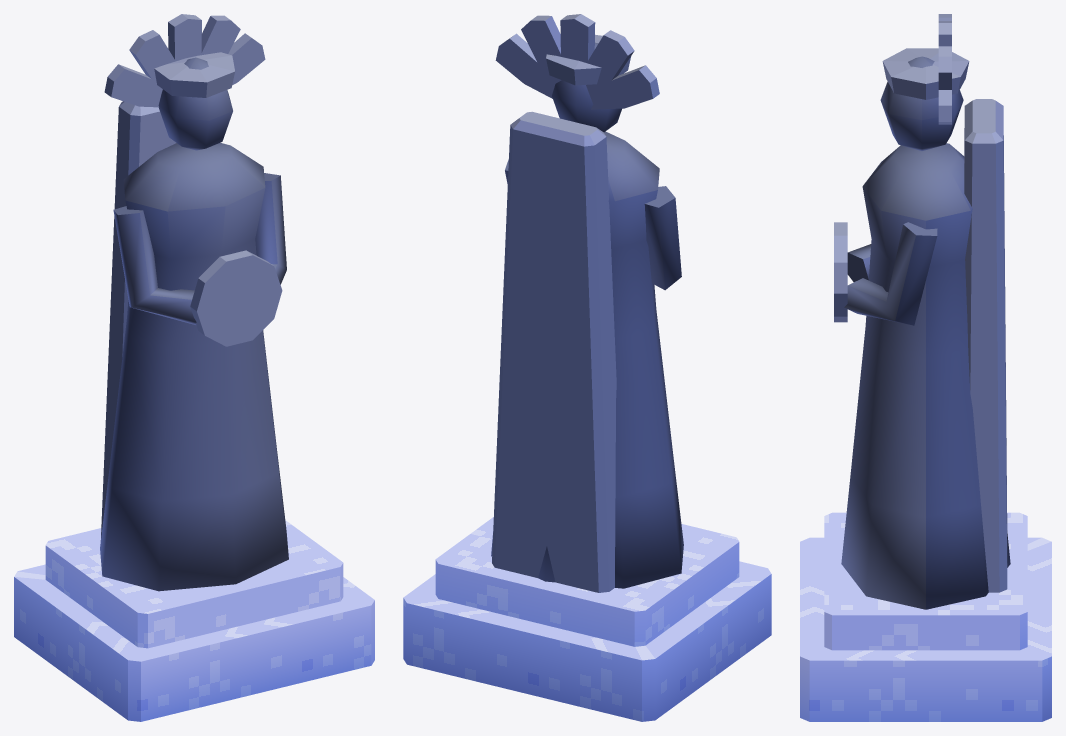
The model's file is relic.statue.glb.
3 views of the same model, side by side, from view 1: azimuth 30°, elevation 25°; view 2: azimuth 150°, elevation 25°; view 3: azimuth 270°, elevation 25° (orthographic). The views are drawn at different scales.
Parts seen in each view (by area): view 1: kit_robe, kit_plinth, kit_arms, kit_crown, kit_disc, kit_back_pillar, kit_head, kit_band; view 2: kit_back_pillar, kit_plinth, kit_robe, kit_crown, kit_arms, kit_head, kit_band; view 3: kit_robe, kit_plinth, kit_back_pillar, kit_arms, kit_head, kit_band, kit_crown, kit_disc.
Boxes of the visible parts, x1,y1,x2,y2 form: kit_robe: (100,142,288,591); kit_plinth: (14,520,374,721); kit_arms: (113,173,286,324); kit_crown: (104,14,265,107); kit_disc: (190,250,282,346); kit_back_pillar: (100,101,176,540); kit_head: (158,57,232,150); kit_band: (154,52,234,97); kit_back_pillar: (492,111,616,592); kit_plinth: (403,517,771,721); kit_robe: (491,131,683,588); kit_crown: (495,14,659,109); kit_arms: (505,159,681,290); kit_head: (552,42,621,132); kit_band: (546,34,631,85); kit_robe: (841,143,1010,609); kit_plinth: (800,512,1051,721); kit_back_pillar: (964,99,1007,592); kit_arms: (844,222,937,325); kit_head: (880,56,963,150); kit_band: (882,48,969,99); kit_crown: (938,14,951,124); kit_disc: (834,222,847,322).
Bounding box in the file's own units: 1.5 × 3.63 × 1.3.
4 materials, 1 textured.
